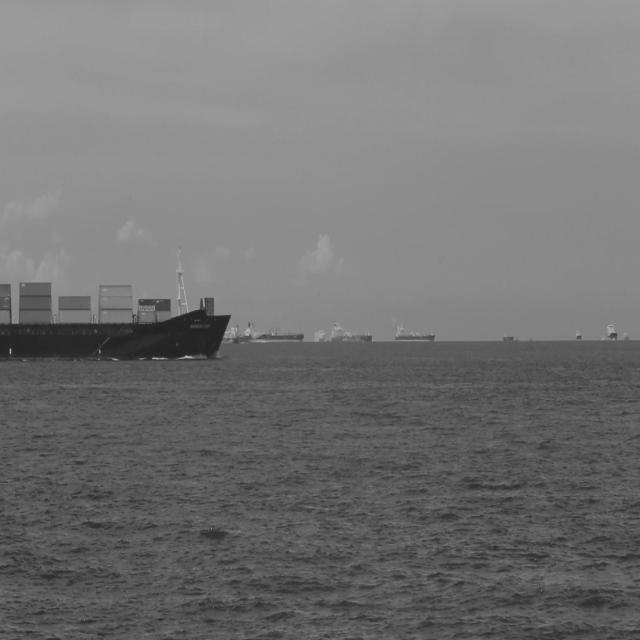ship: (0, 248, 231, 362), (394, 316, 438, 342), (331, 318, 378, 342), (226, 321, 262, 346), (260, 327, 308, 344)
